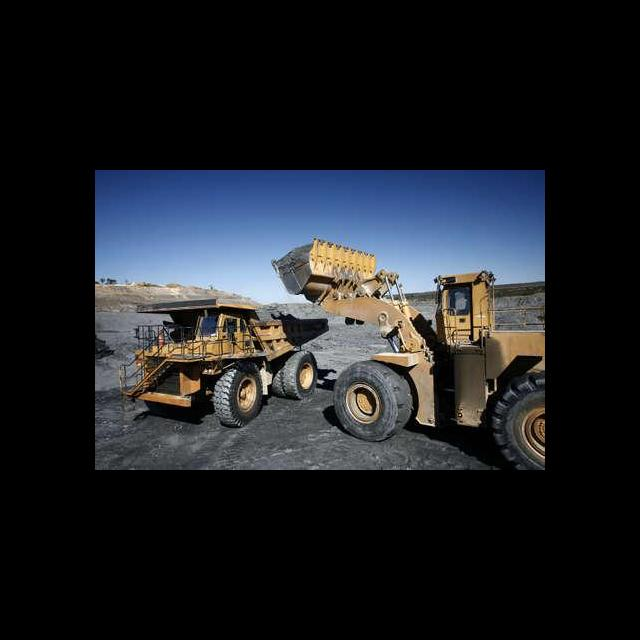Person: (456, 291, 470, 316)
Safety Cone: (157, 330, 164, 347)
dump truck: (119, 292, 330, 430)
wheel loader: (270, 236, 544, 469)
